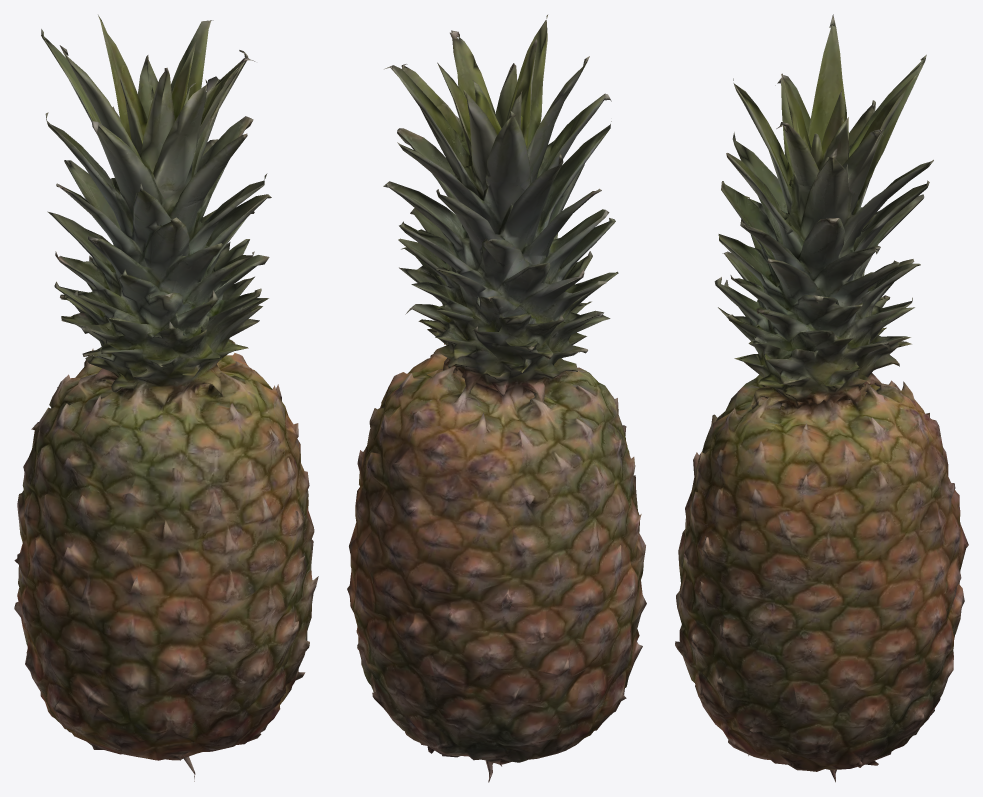
Rendered from pineapple.glb.
3 renders of one model, left to right at view 1: azimuth 30°, elevation 25°; view 2: azimuth 150°, elevation 25°; view 3: azimuth 270°, elevation 25°, orthographic. The views are drawn at different scales.
Parts seen in each view (by area): view 1: Object_3; view 2: Object_3; view 3: Object_3.
Part boxes in pixels (box(x1,y1,x2,y2)): Object_3: box(14, 15, 318, 781); Object_3: box(347, 15, 646, 782); Object_3: box(675, 14, 968, 782).
Size of the model in its own units: 11.94 by 32.75 by 12.45.
1 material, 1 textured.
